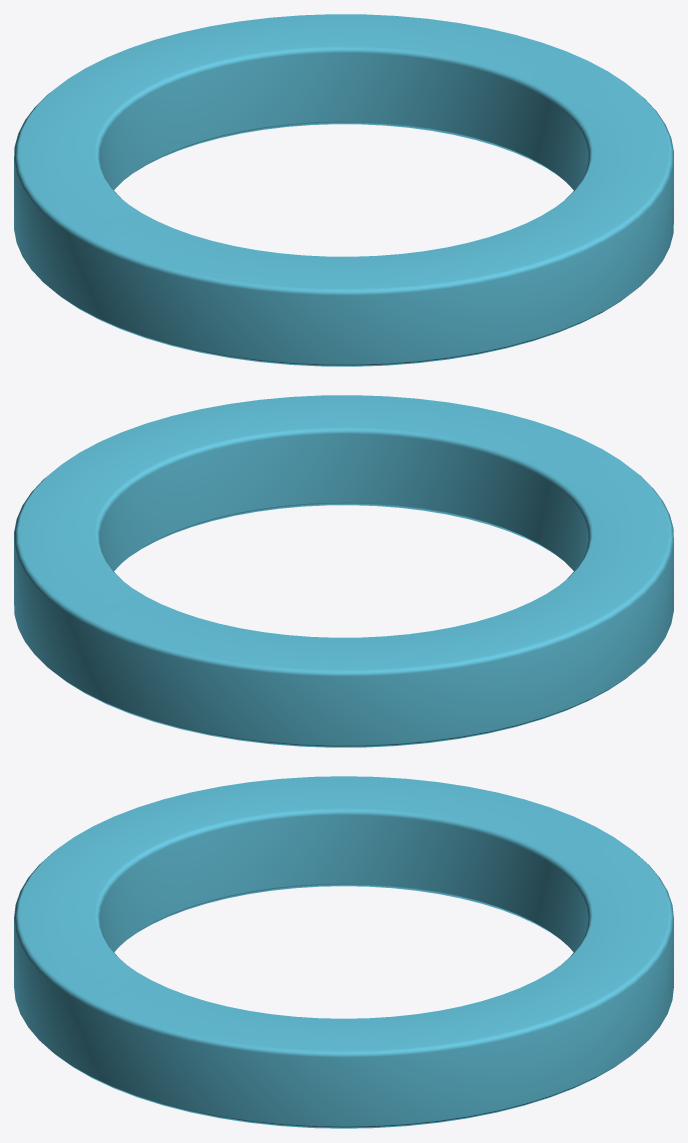
The picture shows the model from 3 angles, top to bottom: view 1: azimuth 30°, elevation 25°; view 2: azimuth 150°, elevation 25°; view 3: azimuth 270°, elevation 25°; orthographic projection.
Visible parts, largest first — view 1: seal_body; view 2: seal_body; view 3: seal_body.
Boxes of the visible parts, x1,y1,x2,y2 form: seal_body: (14, 14, 673, 366); seal_body: (14, 395, 673, 747); seal_body: (14, 776, 673, 1128).
Size of the model in its own units: 0.073 by 0.00952 by 0.073.
